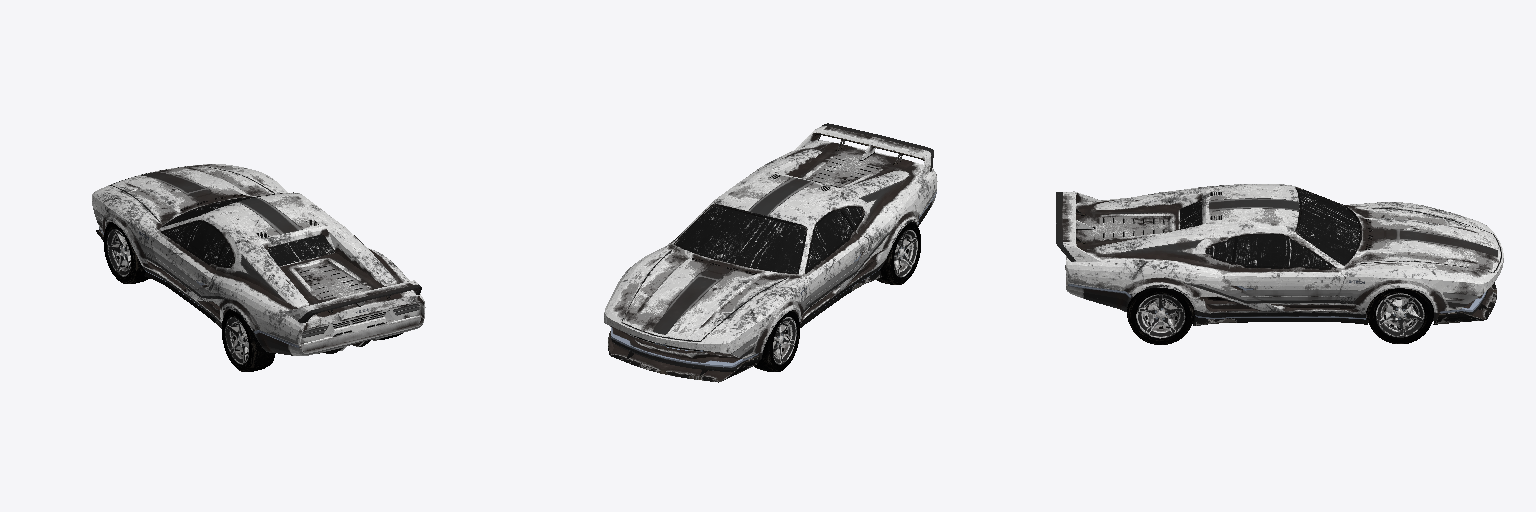
The picture shows the model from 3 angles: view 1: azimuth 30°, elevation 25°; view 2: azimuth 150°, elevation 25°; view 3: azimuth 270°, elevation 25°; orthographic projection.
Parts seen in each view (by area): view 1: BTechFix; view 2: BTechFix; view 3: BTechFix.
Boxes of the visible parts, <box> form: BTechFix: <box>92,164,425,371</box>; BTechFix: <box>604,123,937,382</box>; BTechFix: <box>1056,184,1503,344</box>.
Size of the model in its own units: 223 by 141 by 541.
1 materials, 1 textured.